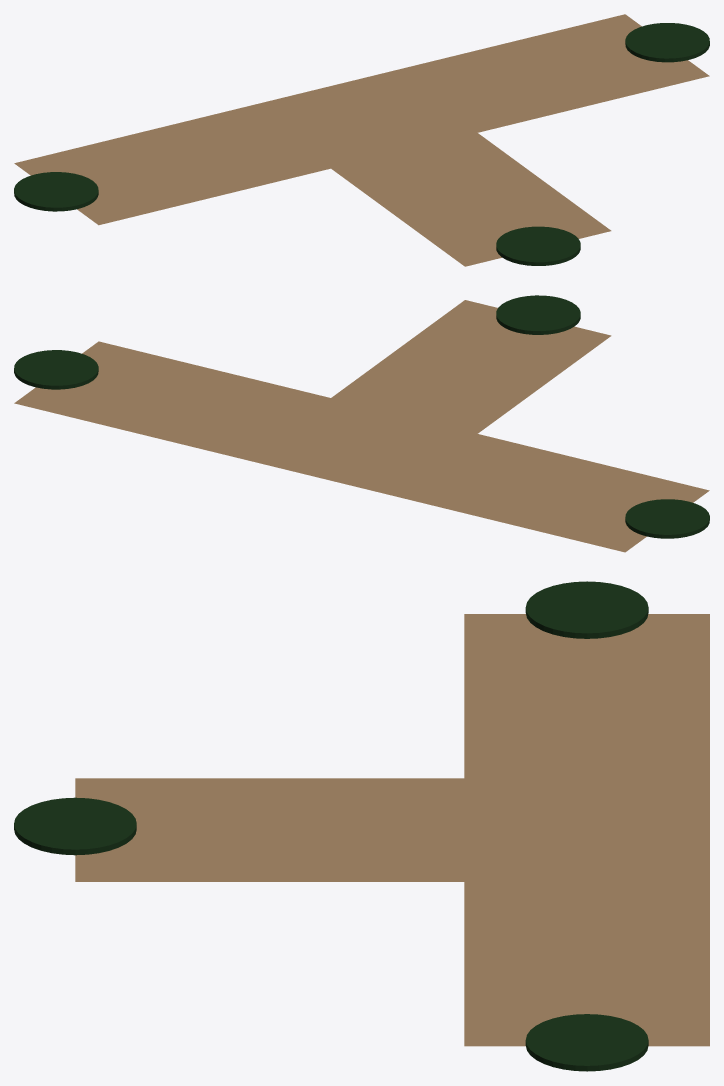
The model's file is t_junction_dormant.glb.
The picture shows the model from 3 angles, top to bottom: view 1: azimuth 30°, elevation 25°; view 2: azimuth 150°, elevation 25°; view 3: azimuth 270°, elevation 25°; orthographic projection. The views are drawn at different scales.
Visible parts, largest first — view 1: T_Trace, Via_Left, Via_Bottom, Via_Right; view 2: T_Trace, Via_Left, Via_Bottom, Via_Right; view 3: T_Trace, Via_Left, Via_Right, Via_Bottom.
Part boxes in pixels (x1,y1,x2,y2): T_Trace: (14,14,709,266); Via_Left: (14,172,98,211); Via_Bottom: (496,226,580,265); Via_Right: (625,23,709,62); T_Trace: (14,300,709,552); Via_Left: (625,499,709,538); Via_Bottom: (496,295,580,334); Via_Right: (14,350,98,389); T_Trace: (75,614,709,1046); Via_Left: (525,581,648,638); Via_Right: (525,1014,648,1071); Via_Bottom: (14,797,136,855).
Bounding box in the file's own units: 1.12 × 0.007 × 0.68.
